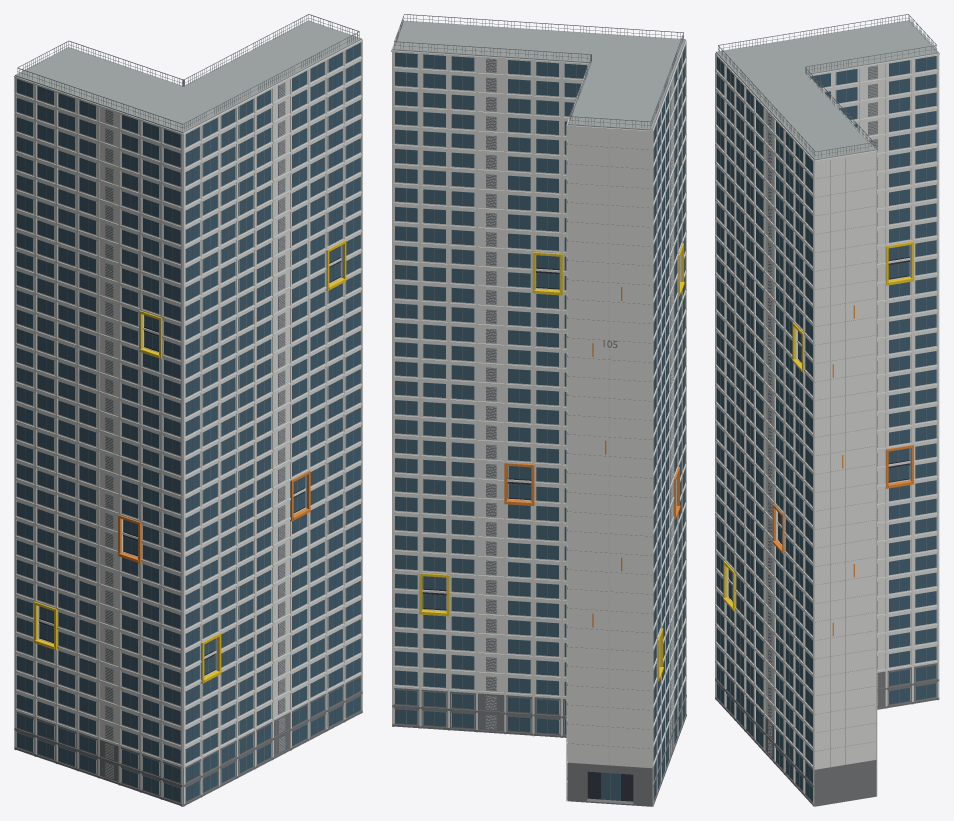
The model's file is bespoke-songpa-helio-city-105.glb.
The picture shows the model from 3 angles, left to right: view 1: azimuth 30°, elevation 25°; view 2: azimuth 150°, elevation 25°; view 3: azimuth 270°, elevation 25°; orthographic projection. The views are drawn at different scales.
Visible parts, largest first — view 1: Helio105_editable_Helio105_dark_blue_grey_glazing002, Helio105_editable_Helio105_white_slab_frames002, Helio105_editable_Helio105_grey_service_grille002, Helio105_editable_Helio105_low_roof_deck002, Helio105_editable_Helio105_dark_grey_twofloor_base002, Helio105_editable_Helio105_blankwall_grey_panels002, Helio105_editable_Helio105_yellow_projecting_rectangular_fra, Helio105_editable_Helio105_orange_narrow_accent002; view 2: Helio105_editable_Helio105_white_slab_frames002, Helio105_editable_Helio105_dark_blue_grey_glazing002, Helio105_editable_Helio105_grey_service_grille002, Helio105_editable_Helio105_low_roof_deck002, Helio105_editable_Helio105_dark_grey_twofloor_base002, Helio105_editable_Helio105_blankwall_grey_panels002, Helio105_editable_Helio105_yellow_projecting_rectangular_fra, Helio105_editable_Helio105_deep_shaded_frame_recess002, Helio105_editable_Helio105_orange_narrow_accent002; view 3: Helio105_editable_Helio105_white_slab_frames002, Helio105_editable_Helio105_dark_blue_grey_glazing002, Helio105_editable_Helio105_low_roof_deck002, Helio105_editable_Helio105_grey_service_grille002, Helio105_editable_Helio105_dark_grey_twofloor_base002, Helio105_editable_Helio105_blankwall_grey_panels002, Helio105_editable_Helio105_yellow_projecting_rectangular_fra, Helio105_editable_Helio105_orange_narrow_accent002.
Boxes of the visible parts, x1=… form: Helio105_editable_Helio105_dark_blue_grey_glazing002: x1=16, y1=42, x2=360, y2=802; Helio105_editable_Helio105_white_slab_frames002: x1=14, y1=39, x2=362, y2=806; Helio105_editable_Helio105_grey_service_grille002: x1=17, y1=14, x2=359, y2=799; Helio105_editable_Helio105_low_roof_deck002: x1=15, y1=20, x2=361, y2=132; Helio105_editable_Helio105_dark_grey_twofloor_base002: x1=14, y1=675, x2=362, y2=806; Helio105_editable_Helio105_blankwall_grey_panels002: x1=105, y1=83, x2=284, y2=778; Helio105_editable_Helio105_yellow_projecting_rectangular_fra: x1=34, y1=240, x2=346, y2=683; Helio105_editable_Helio105_orange_narrow_accent002: x1=118, y1=470, x2=310, y2=563; Helio105_editable_Helio105_white_slab_frames002: x1=391, y1=21, x2=686, y2=806; Helio105_editable_Helio105_dark_blue_grey_glazing002: x1=395, y1=45, x2=685, y2=800; Helio105_editable_Helio105_grey_service_grille002: x1=394, y1=14, x2=684, y2=799; Helio105_editable_Helio105_low_roof_deck002: x1=392, y1=20, x2=685, y2=130; Helio105_editable_Helio105_dark_grey_twofloor_base002: x1=392, y1=688, x2=686, y2=806; Helio105_editable_Helio105_blankwall_grey_panels002: x1=486, y1=59, x2=672, y2=765; Helio105_editable_Helio105_yellow_projecting_rectangular_fra: x1=419, y1=243, x2=684, y2=681; Helio105_editable_Helio105_deep_shaded_frame_recess002: x1=422, y1=255, x2=633, y2=801; Helio105_editable_Helio105_orange_narrow_accent002: x1=504, y1=287, x2=680, y2=627; Helio105_editable_Helio105_white_slab_frames002: x1=715, y1=21, x2=939, y2=806; Helio105_editable_Helio105_dark_blue_grey_glazing002: x1=716, y1=56, x2=936, y2=801; Helio105_editable_Helio105_low_roof_deck002: x1=716, y1=20, x2=938, y2=160; Helio105_editable_Helio105_grey_service_grille002: x1=718, y1=14, x2=936, y2=797; Helio105_editable_Helio105_dark_grey_twofloor_base002: x1=715, y1=663, x2=939, y2=806; Helio105_editable_Helio105_blankwall_grey_panels002: x1=768, y1=66, x2=877, y2=766; Helio105_editable_Helio105_yellow_projecting_rectangular_fra: x1=723, y1=241, x2=913, y2=611; Helio105_editable_Helio105_orange_narrow_accent002: x1=772, y1=305, x2=913, y2=635.
Size of the model in its own units: 45.61 by 99.2 by 30.91.
